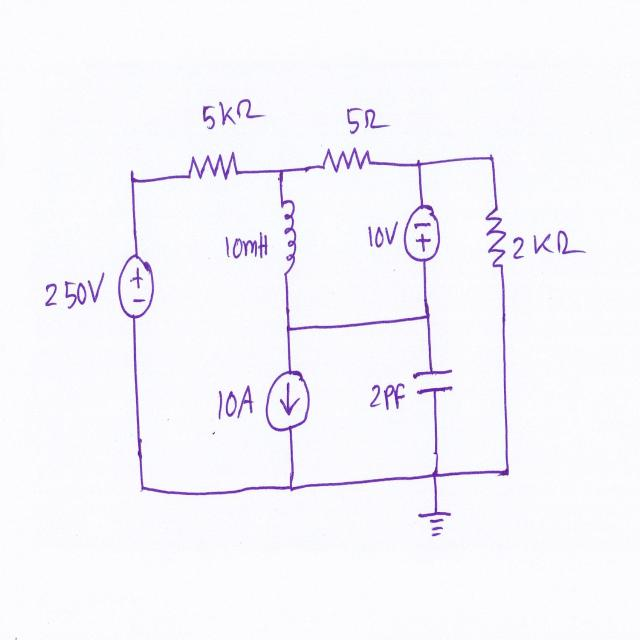capacitor: (408, 362, 458, 402)
current_source: (262, 367, 314, 437)
ground: (417, 508, 453, 545)
inductor: (276, 193, 301, 283)
resistor: (314, 144, 379, 181), (480, 194, 509, 274), (179, 149, 242, 185)
voltage_source: (115, 246, 156, 326), (402, 200, 445, 271)
